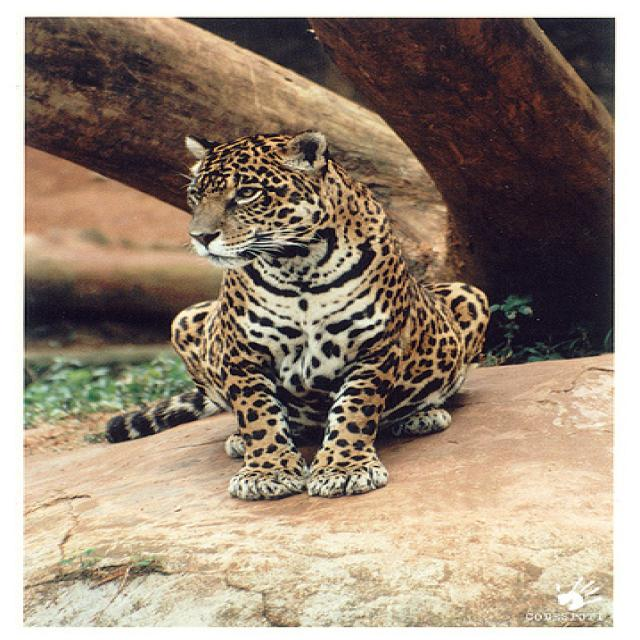Leopard: (96, 123, 494, 502)
